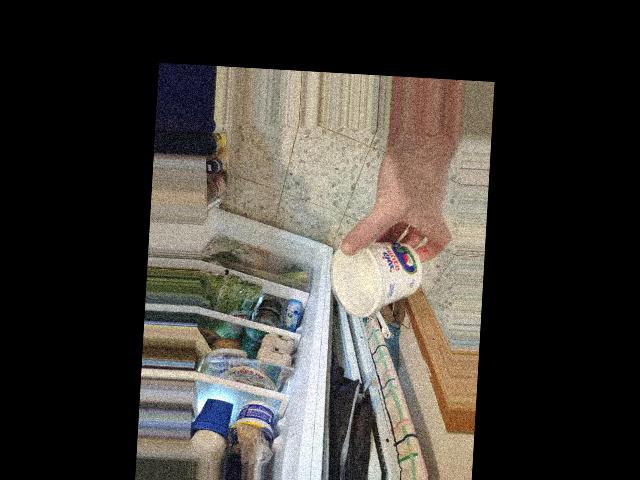cotage: (339, 239, 414, 327)
